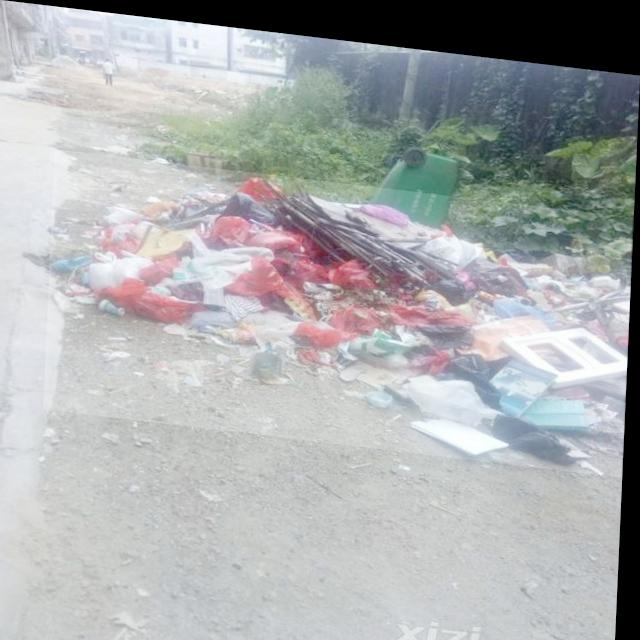garbage: (47, 148, 634, 462)
